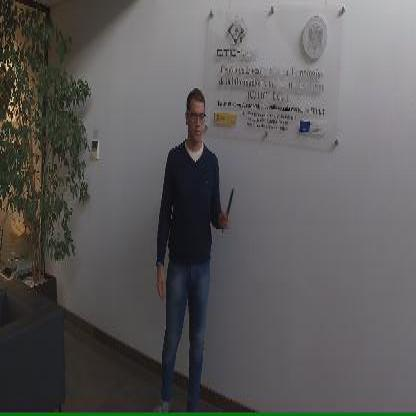knife: (220, 182, 234, 230)
